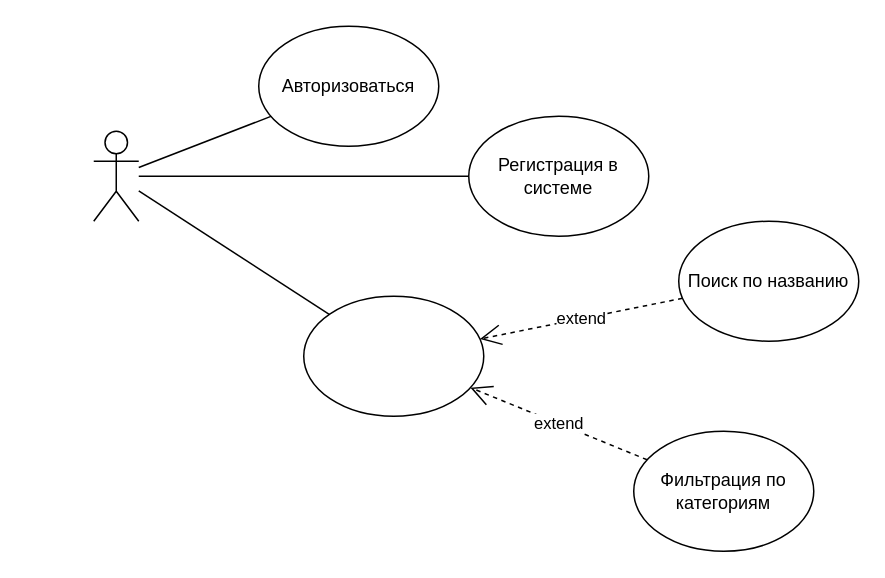
Some shapes in this 885 by 578 pixel diagram are drawn without their labels. Each missing label, with the centre of its shape:
"Неавторизированный пользователь" belongs at point (115, 175).
"Просмотр статей" belongs at point (393, 355).
